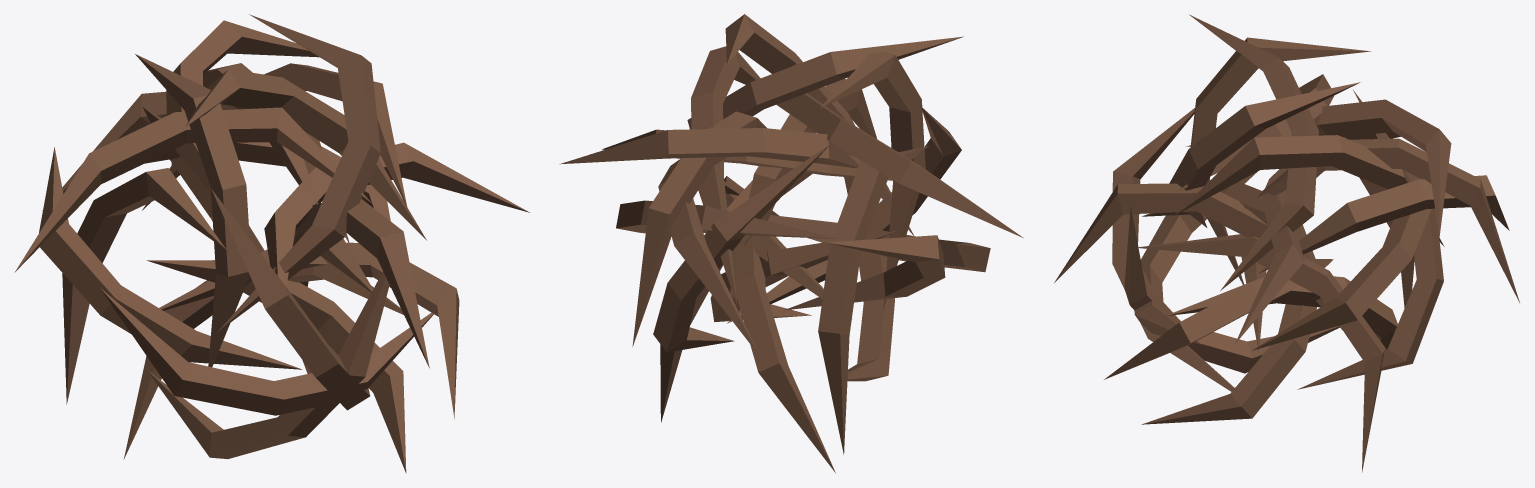
Rendered from Tumbleweed.fbx.
The picture shows the model from 3 angles, left to right: view 1: azimuth 30°, elevation 25°; view 2: azimuth 150°, elevation 25°; view 3: azimuth 270°, elevation 25°; orthographic projection. The views are drawn at different scales.
Parts seen in each view (by area): view 1: Tumbleweed; view 2: Tumbleweed; view 3: Tumbleweed.
Part boxes in pixels (x1=…): Tumbleweed: x1=14, y1=14, x2=529, y2=473; Tumbleweed: x1=559, y1=14, x2=1023, y2=472; Tumbleweed: x1=1054, y1=14, x2=1519, y2=472.
Bounding box in the file's own units: 527 × 429 × 496.
